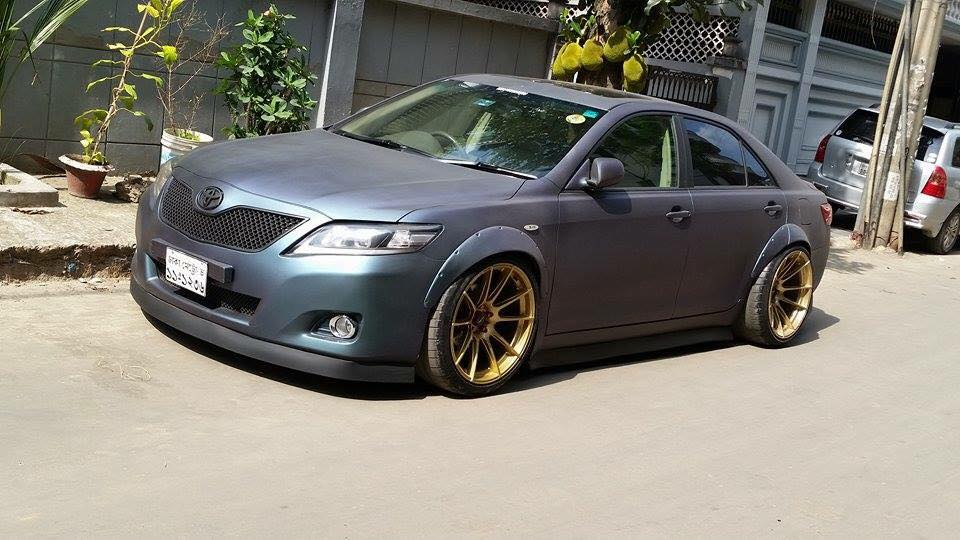registration_plate: (165, 246, 208, 298)
